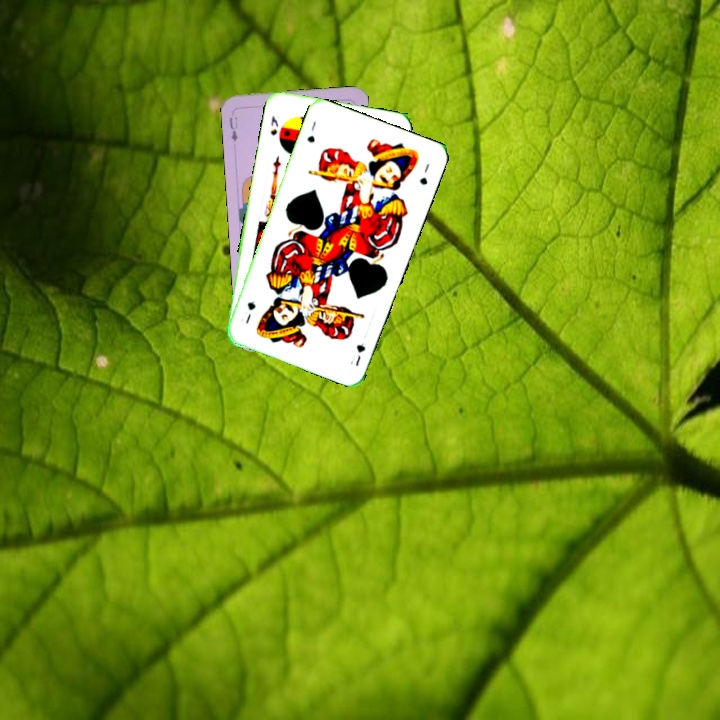EU: (225, 113, 241, 145)
GU: (351, 339, 368, 369), (303, 117, 319, 145)
SK: (266, 112, 281, 138)
